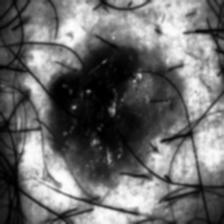Potentially Malignant Skin Tumors: (50, 56, 142, 176)
